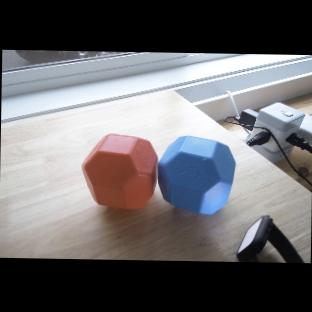V5_BLUE: (158, 130, 236, 215)
V5_RED: (80, 130, 159, 211)
